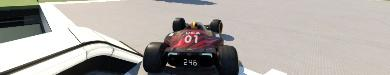Car: (142, 17, 238, 74)
